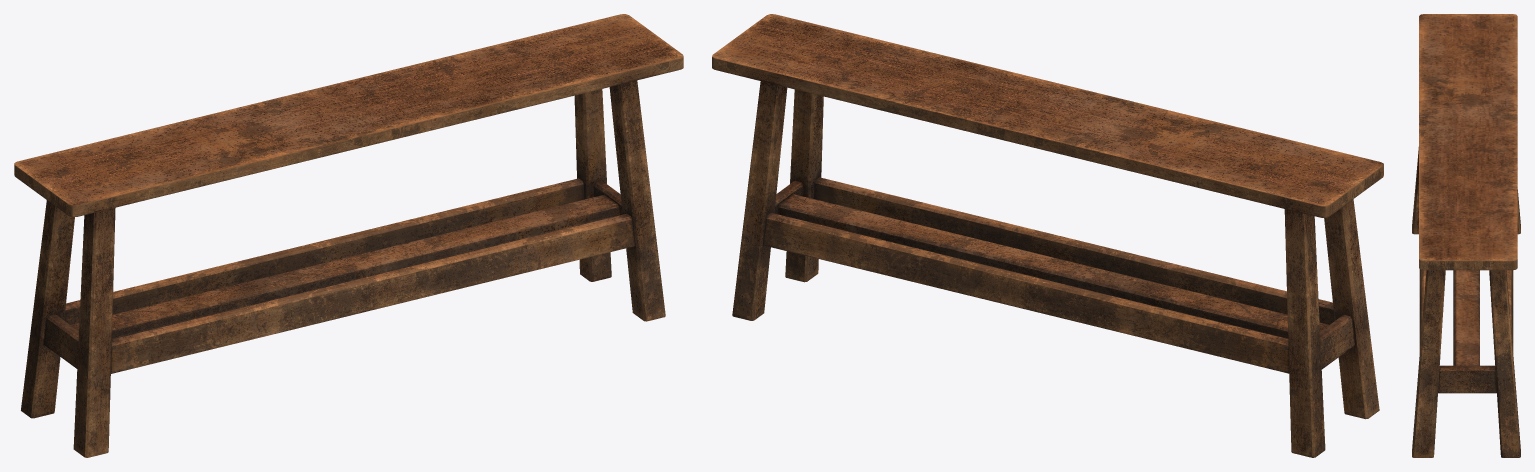
File: Stool_Long.fbx
3 views of the same model, side by side, from view 1: azimuth 30°, elevation 25°; view 2: azimuth 150°, elevation 25°; view 3: azimuth 270°, elevation 25° (orthographic). The views are drawn at different scales.
Parts seen in each view (by area): view 1: Stool_Long; view 2: Stool_Long; view 3: Stool_Long.
Boxes of the visible parts, left/top/right/bottom form: Stool_Long: left=14, top=14, right=683, bottom=457; Stool_Long: left=712, top=14, right=1383, bottom=457; Stool_Long: left=1412, top=14, right=1520, bottom=457.
Bounding box in the file's own units: 123 × 47.94 × 22.89.
1 material, 1 textured.
